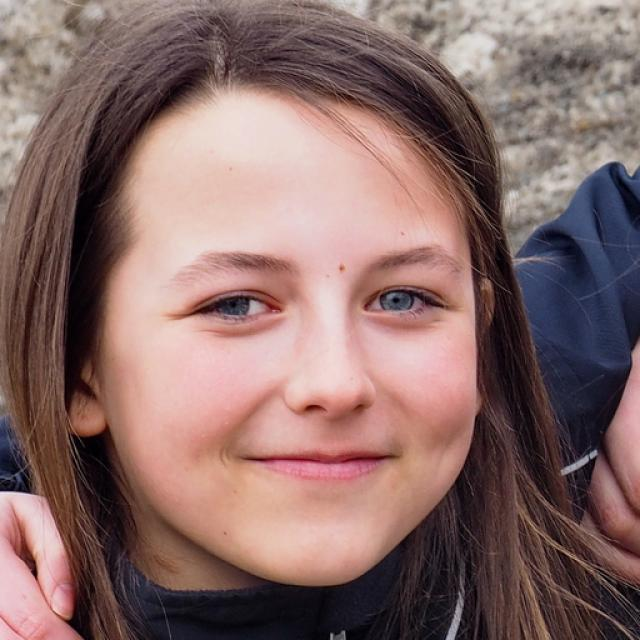happy: (109, 88, 486, 586)
